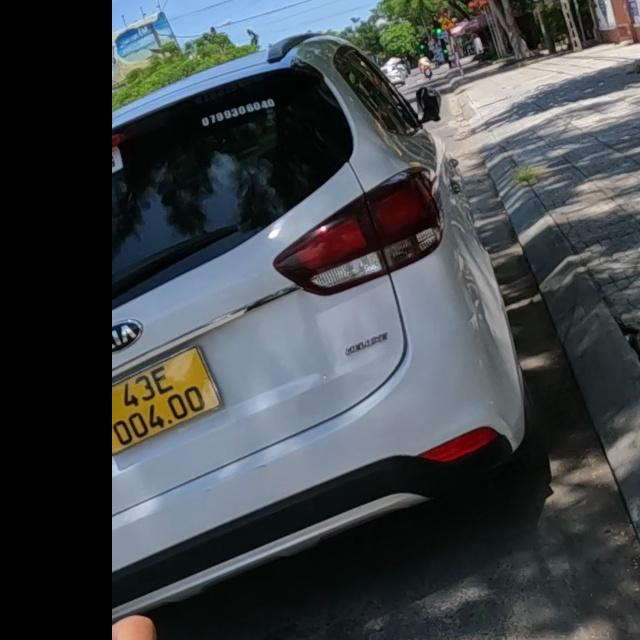license-plate: (111, 344, 226, 459)
